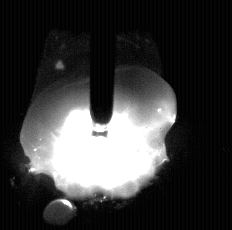arame: (91, 0, 115, 124)
poca: (19, 0, 167, 230)
